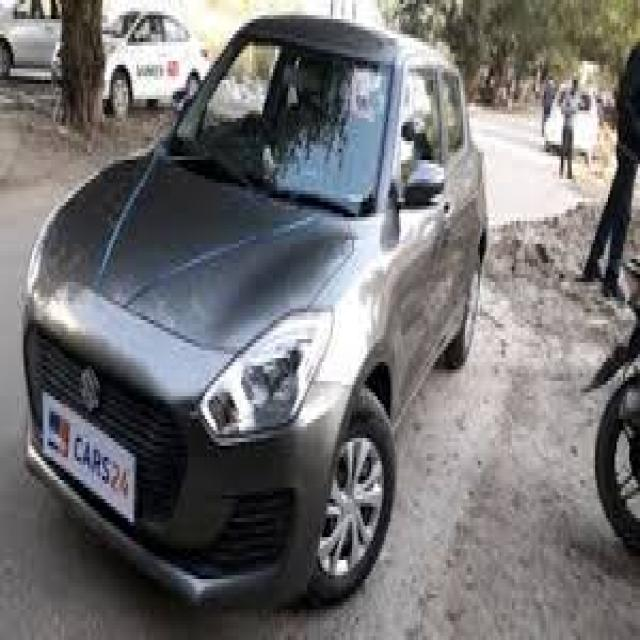car: (49, 31, 484, 610)
